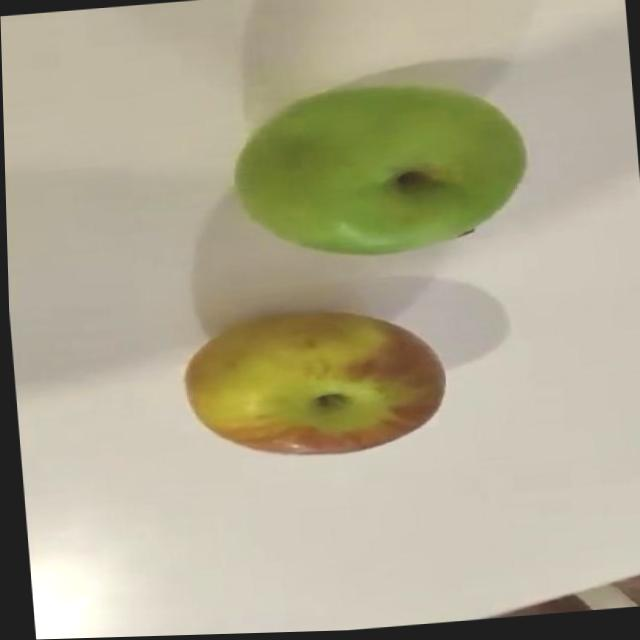Apple: (226, 77, 534, 270), (177, 305, 449, 470)
